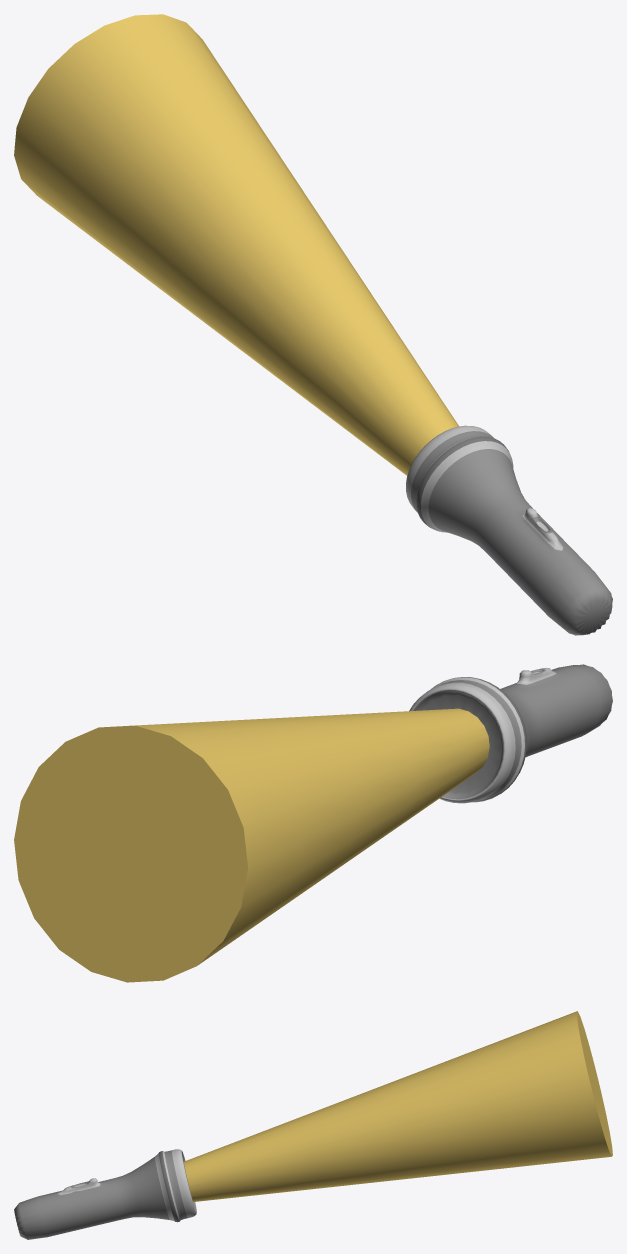
The model's file is Flashlight.fbx.
3 renders of one model, top to bottom at view 1: azimuth 30°, elevation 25°; view 2: azimuth 150°, elevation 25°; view 3: azimuth 270°, elevation 25°, orthographic. The views are drawn at different scales.
Parts seen in each view (by area): view 1: pCone1, pCylinder1; view 2: pCone1, pCylinder1; view 3: pCone1, pCylinder1.
Part boxes in pixels (bbox=[...]): pCone1: bbox=[14, 14, 458, 475]; pCylinder1: bbox=[406, 425, 612, 635]; pCone1: bbox=[14, 708, 489, 982]; pCylinder1: bbox=[409, 664, 612, 803]; pCone1: bbox=[183, 1011, 612, 1201]; pCylinder1: bbox=[14, 1149, 196, 1239].
Bounding box in the file's own units: 129 × 198 × 517.
